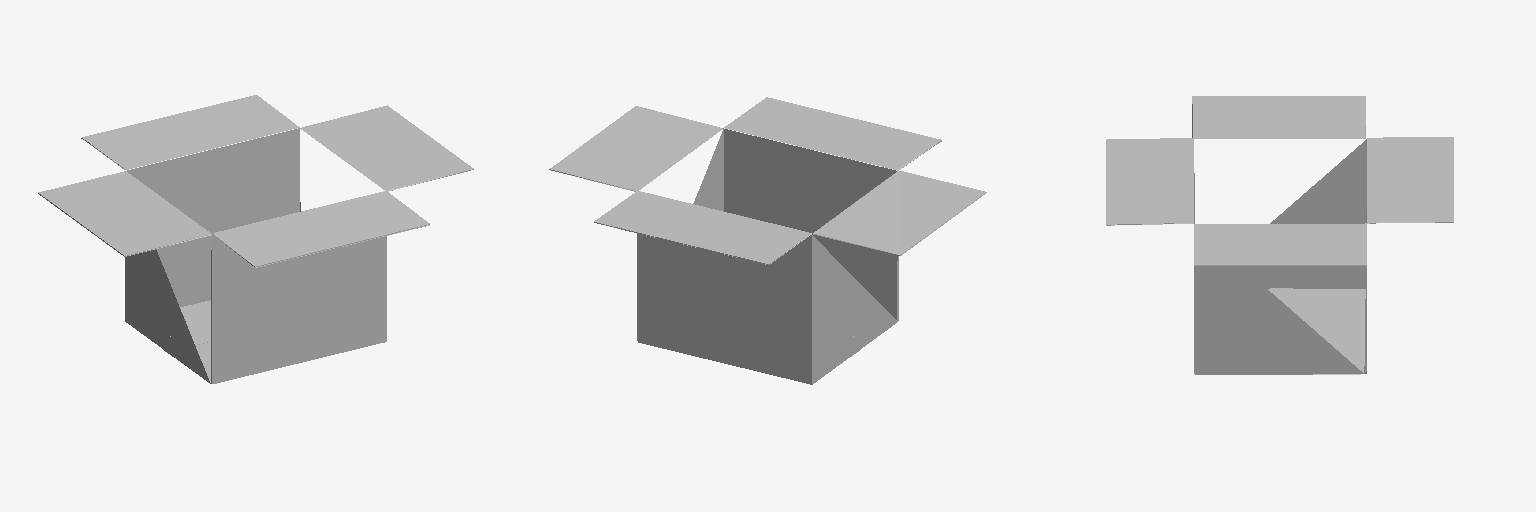
File: caja.obj
The picture shows the model from 3 angles: view 1: azimuth 30°, elevation 25°; view 2: azimuth 150°, elevation 25°; view 3: azimuth 270°, elevation 25°; orthographic projection.
Visible parts, largest first — view 1: Cardboard_Boxes; view 2: Cardboard_Boxes; view 3: Cardboard_Boxes.
Part boxes in pixels (x1,y1,x2,y2): Cardboard_Boxes: (38, 95, 473, 383); Cardboard_Boxes: (549, 97, 986, 384); Cardboard_Boxes: (1106, 96, 1453, 374).
Size of the model in its own units: 0.847 by 0.3534 by 0.7272.